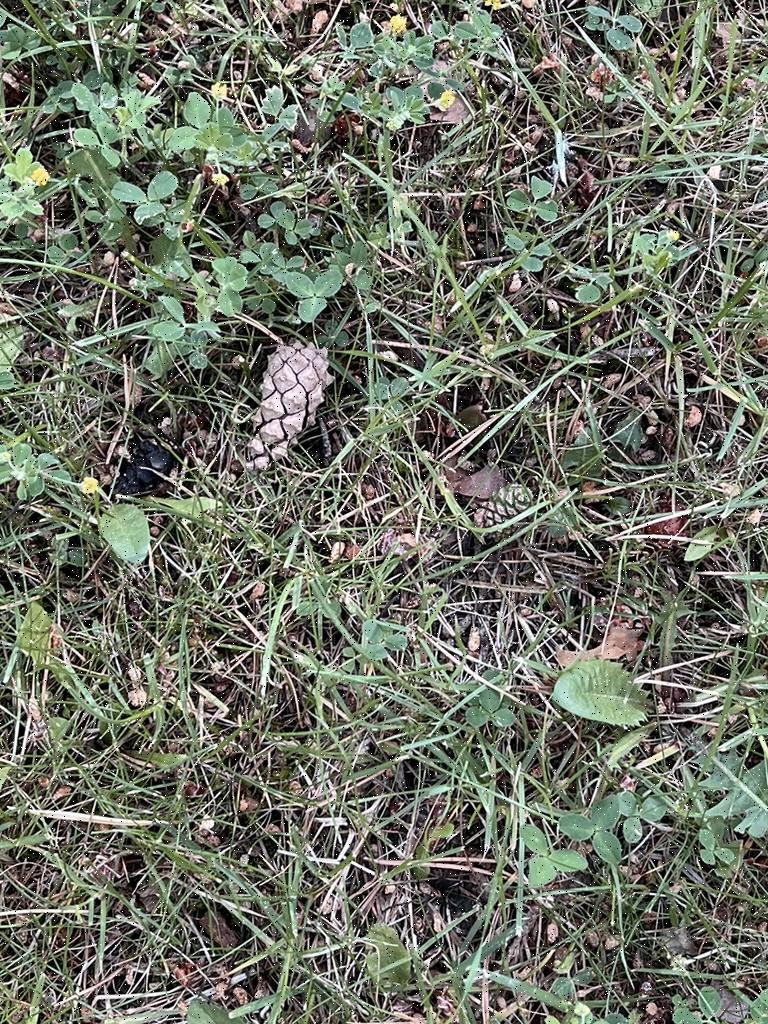pine: (244, 328, 338, 486)
